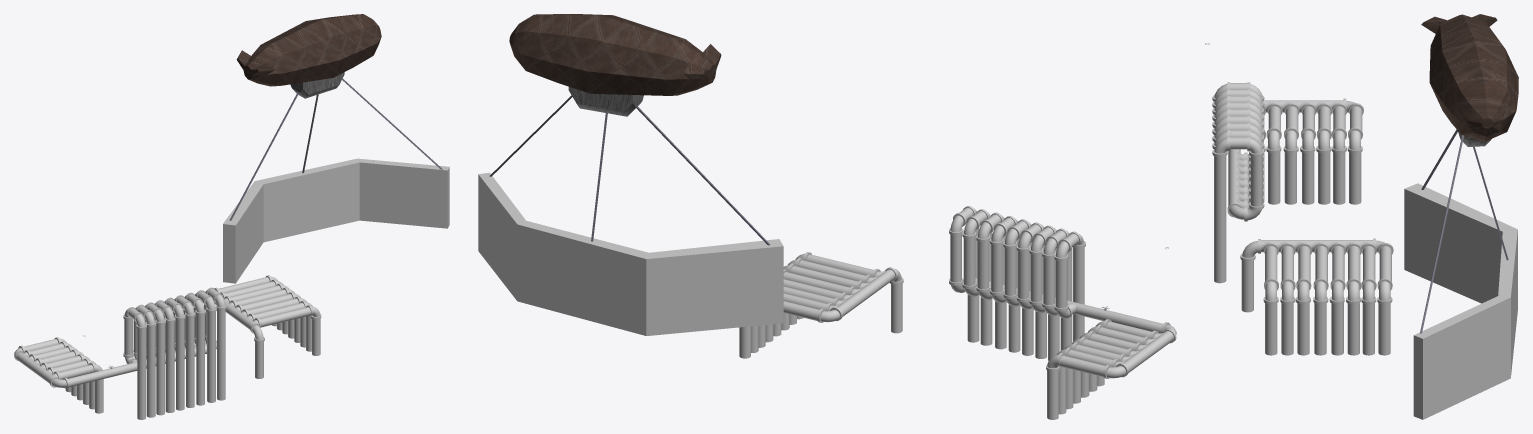
The model's file is incomplete level map.fbx.
The picture shows the model from 3 angles, left to right: view 1: azimuth 30°, elevation 25°; view 2: azimuth 150°, elevation 25°; view 3: azimuth 270°, elevation 25°; orthographic projection. The views are drawn at different scales.
Parts seen in each view (by area): view 1: pCube9, pTorus88, pCylinder232, pCylinder233; view 2: pCube9, pTorus88, pCylinder232, pCylinder233; view 3: pCube9, pTorus88, pCylinder233, pCylinder232, pCube7, pCube8.
Part boxes in pixels (x1,y1,x2,y2): pCube9: (223,158,449,283); pTorus88: (14,287,226,419); pCylinder232: (236,14,381,98); pCylinder233: (214,275,321,378); pCube9: (478,172,783,335); pTorus88: (949,206,1176,419); pCylinder232: (509,14,721,116); pCylinder233: (739,252,903,358); pCube9: (1404,183,1517,419); pTorus88: (1205,43,1363,283); pCylinder233: (1240,238,1393,355); pCylinder232: (1421,14,1518,146); pCube7: (1420,135,1463,333); pCube8: (1473,146,1508,260).
Bounding box in the file's own units: 50.7 × 27.78 × 21.34.
